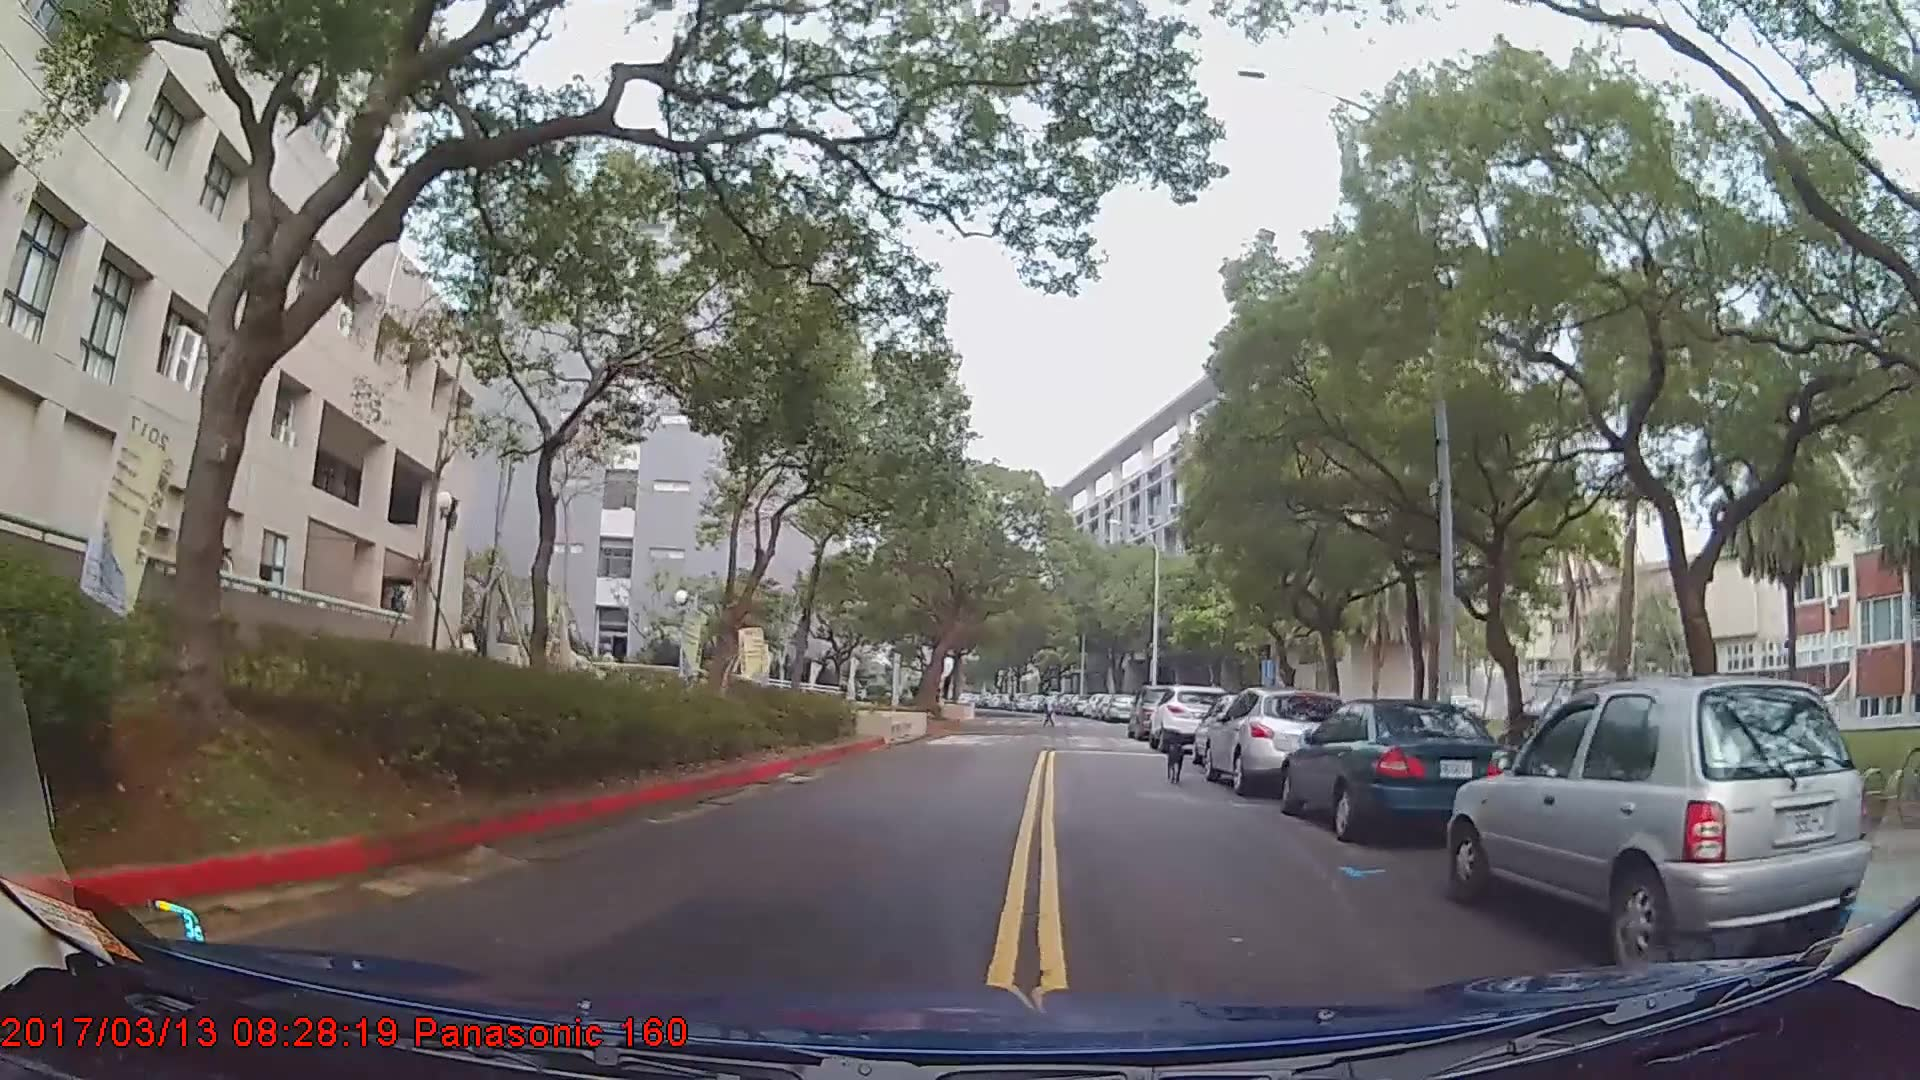pedestrian: (1041, 690, 1061, 728)
vehicle: (1448, 671, 1869, 965), (1278, 695, 1526, 844), (1200, 687, 1349, 792), (1149, 682, 1231, 750), (1102, 691, 1137, 724)
